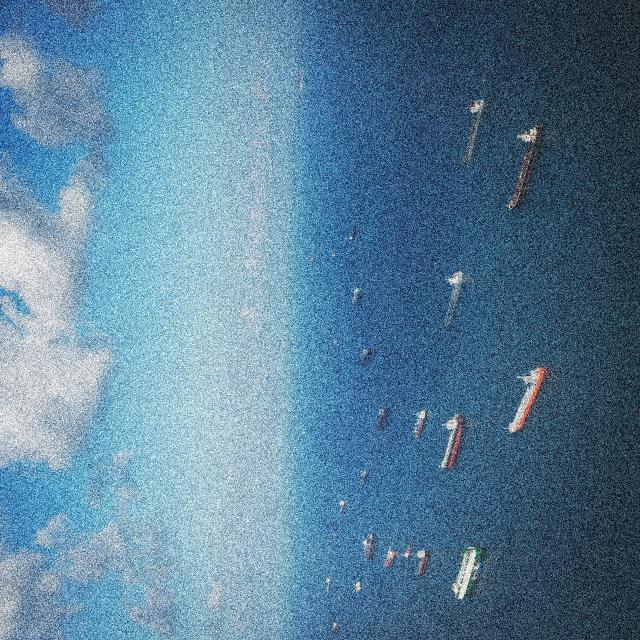ship2: (507, 120, 549, 213), (508, 368, 550, 436), (440, 414, 469, 472)
